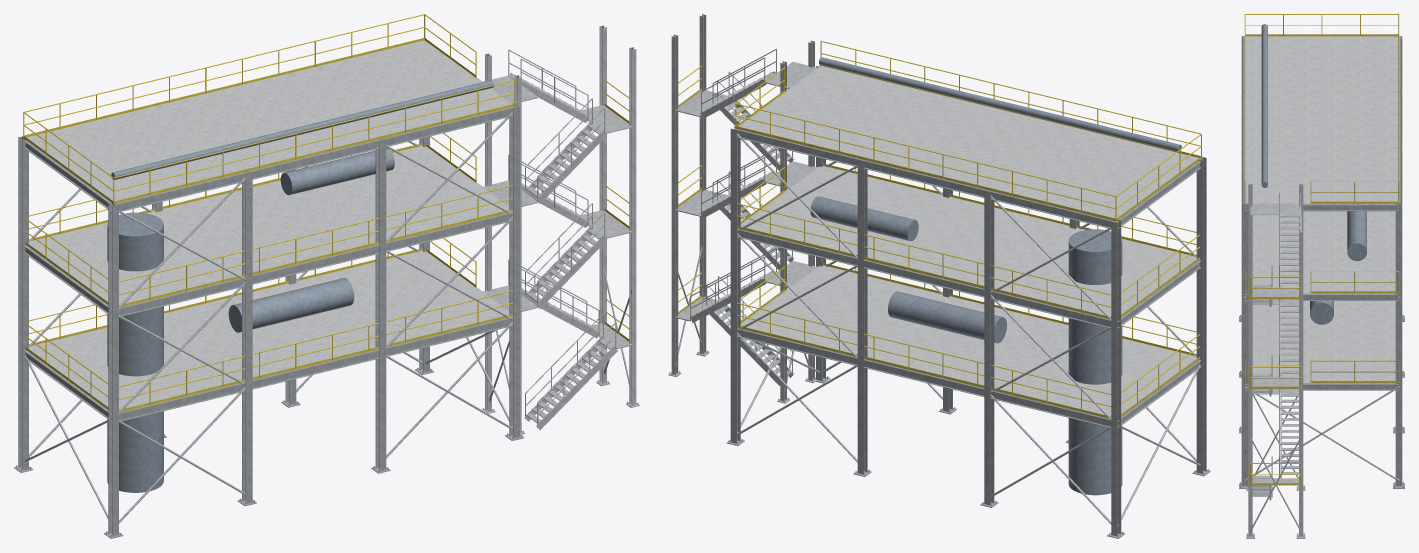
File: refinery-process-structures.glb
The picture shows the model from 3 angles, left to right: view 1: azimuth 30°, elevation 25°; view 2: azimuth 150°, elevation 25°; view 3: azimuth 270°, elevation 25°; orthographic projection. The views are drawn at different scales.
Parts seen in each view (by area): view 1: GratingFloors, StairTower, Columns&BasePlates, Handrails&ToeBoards, ProcessEquipment(context), FloorBeams, VerticalBracing; view 2: GratingFloors, Columns&BasePlates, StairTower, ProcessEquipment(context), Handrails&ToeBoards, FloorBeams, VerticalBracing; view 3: GratingFloors, StairTower, Columns&BasePlates, Handrails&ToeBoards, FloorBeams, ProcessEquipment(context), VerticalBracing.
Boxes of the visible parts, box(x1,y1,x2,y2) form: GratingFloors: box(26, 40, 514, 412); StairTower: box(482, 25, 639, 434); Columns&BasePlates: box(14, 38, 524, 538); Handrails&ToeBoards: box(23, 14, 631, 411); ProcessEquipment(context): box(107, 80, 493, 492); FloorBeams: box(22, 78, 516, 421); VerticalBracing: box(24, 112, 512, 526); GratingFloors: box(736, 65, 1198, 418); Columns&BasePlates: box(726, 64, 1210, 538); StairTower: box(668, 14, 817, 403); ProcessEquipment(context): box(810, 57, 1181, 495); Handrails&ToeBoards: box(676, 41, 1201, 417); FloorBeams: box(734, 66, 1203, 427); VerticalBracing: box(737, 133, 1200, 527); GratingFloors: box(1245, 36, 1398, 383); StairTower: box(1246, 184, 1305, 538); Columns&BasePlates: box(1239, 35, 1404, 488); Handrails&ToeBoards: box(1244, 14, 1399, 485); FloorBeams: box(1243, 37, 1400, 390); ProcessEquipment(context): box(1261, 24, 1366, 324); VerticalBracing: box(1244, 207, 1399, 480).
Bounding box in the file's own units: 23.93 × 15.42 × 7.55.
5 materials, 5 textured.
